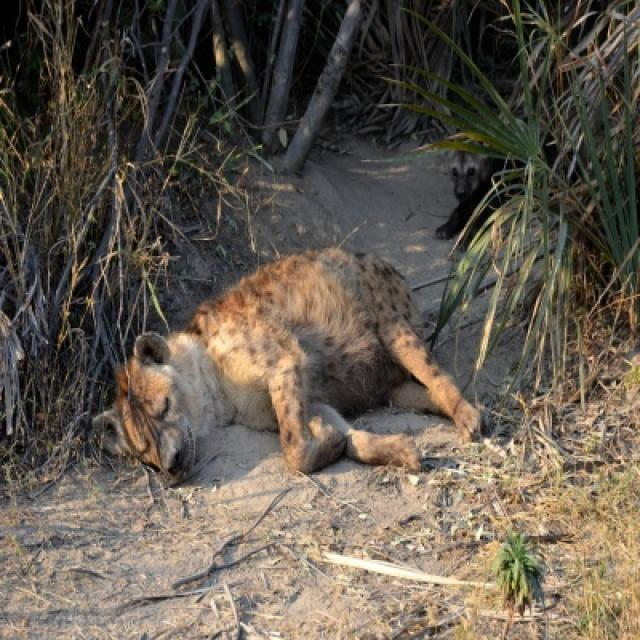hyena: (102, 248, 480, 488)
